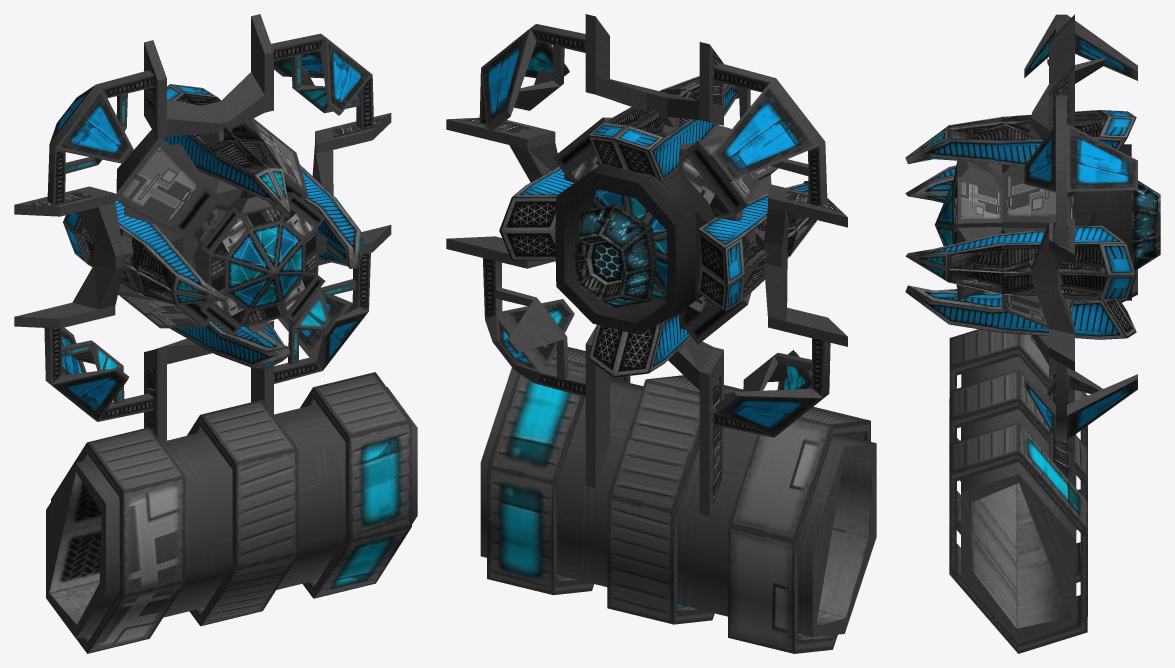
The picture shows the model from 3 angles, left to right: view 1: azimuth 30°, elevation 25°; view 2: azimuth 150°, elevation 25°; view 3: azimuth 270°, elevation 25°; orthographic projection. The views are drawn at different scales.
Visible parts, largest first — view 1: YellowOutpost; view 2: YellowOutpost; view 3: YellowOutpost.
Part boxes in pixels (<box>): YellowOutpost: <box>14,14,417,653</box>; YellowOutpost: <box>446,14,876,653</box>; YellowOutpost: <box>905,14,1160,653</box>.
Size of the model in its own units: 1.33 by 1.92 by 0.8163.
1 material, 1 textured.
